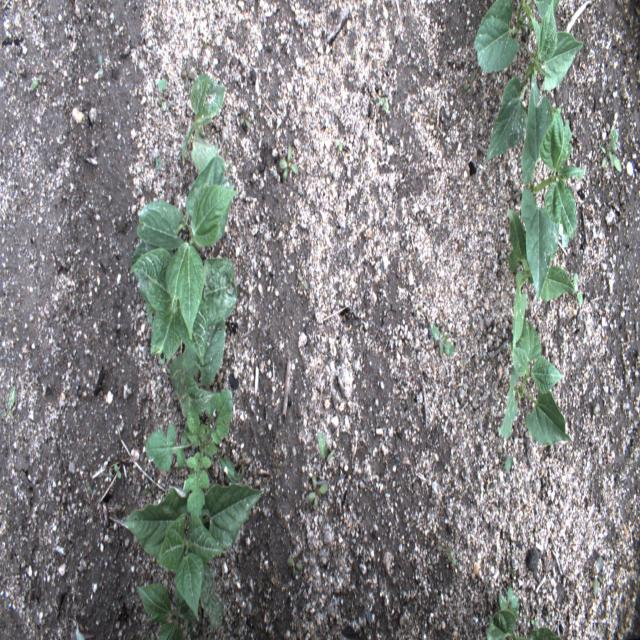crop: (113, 483, 264, 619), (134, 155, 238, 340), (483, 3, 584, 163), (519, 77, 584, 295), (129, 241, 236, 359), (498, 319, 573, 451), (506, 206, 574, 347), (470, 0, 558, 74), (169, 330, 227, 421), (182, 72, 225, 174), (134, 584, 196, 637), (486, 611, 566, 638), (200, 565, 224, 632)
weed: (144, 389, 234, 514), (599, 125, 623, 172), (429, 322, 454, 358), (306, 473, 330, 508), (316, 428, 336, 470), (279, 143, 300, 181), (588, 556, 604, 600), (218, 453, 243, 480), (156, 73, 172, 111), (178, 56, 195, 90), (1, 383, 16, 419), (571, 272, 585, 308), (499, 587, 519, 612), (27, 73, 47, 96), (286, 553, 302, 579), (463, 68, 477, 93), (504, 454, 514, 485), (378, 91, 390, 116), (434, 540, 452, 556), (95, 54, 106, 78), (240, 108, 252, 128), (237, 454, 247, 476), (333, 138, 346, 154), (112, 463, 124, 479), (155, 151, 163, 172), (452, 548, 458, 573), (529, 617, 540, 626), (227, 162, 234, 175)
